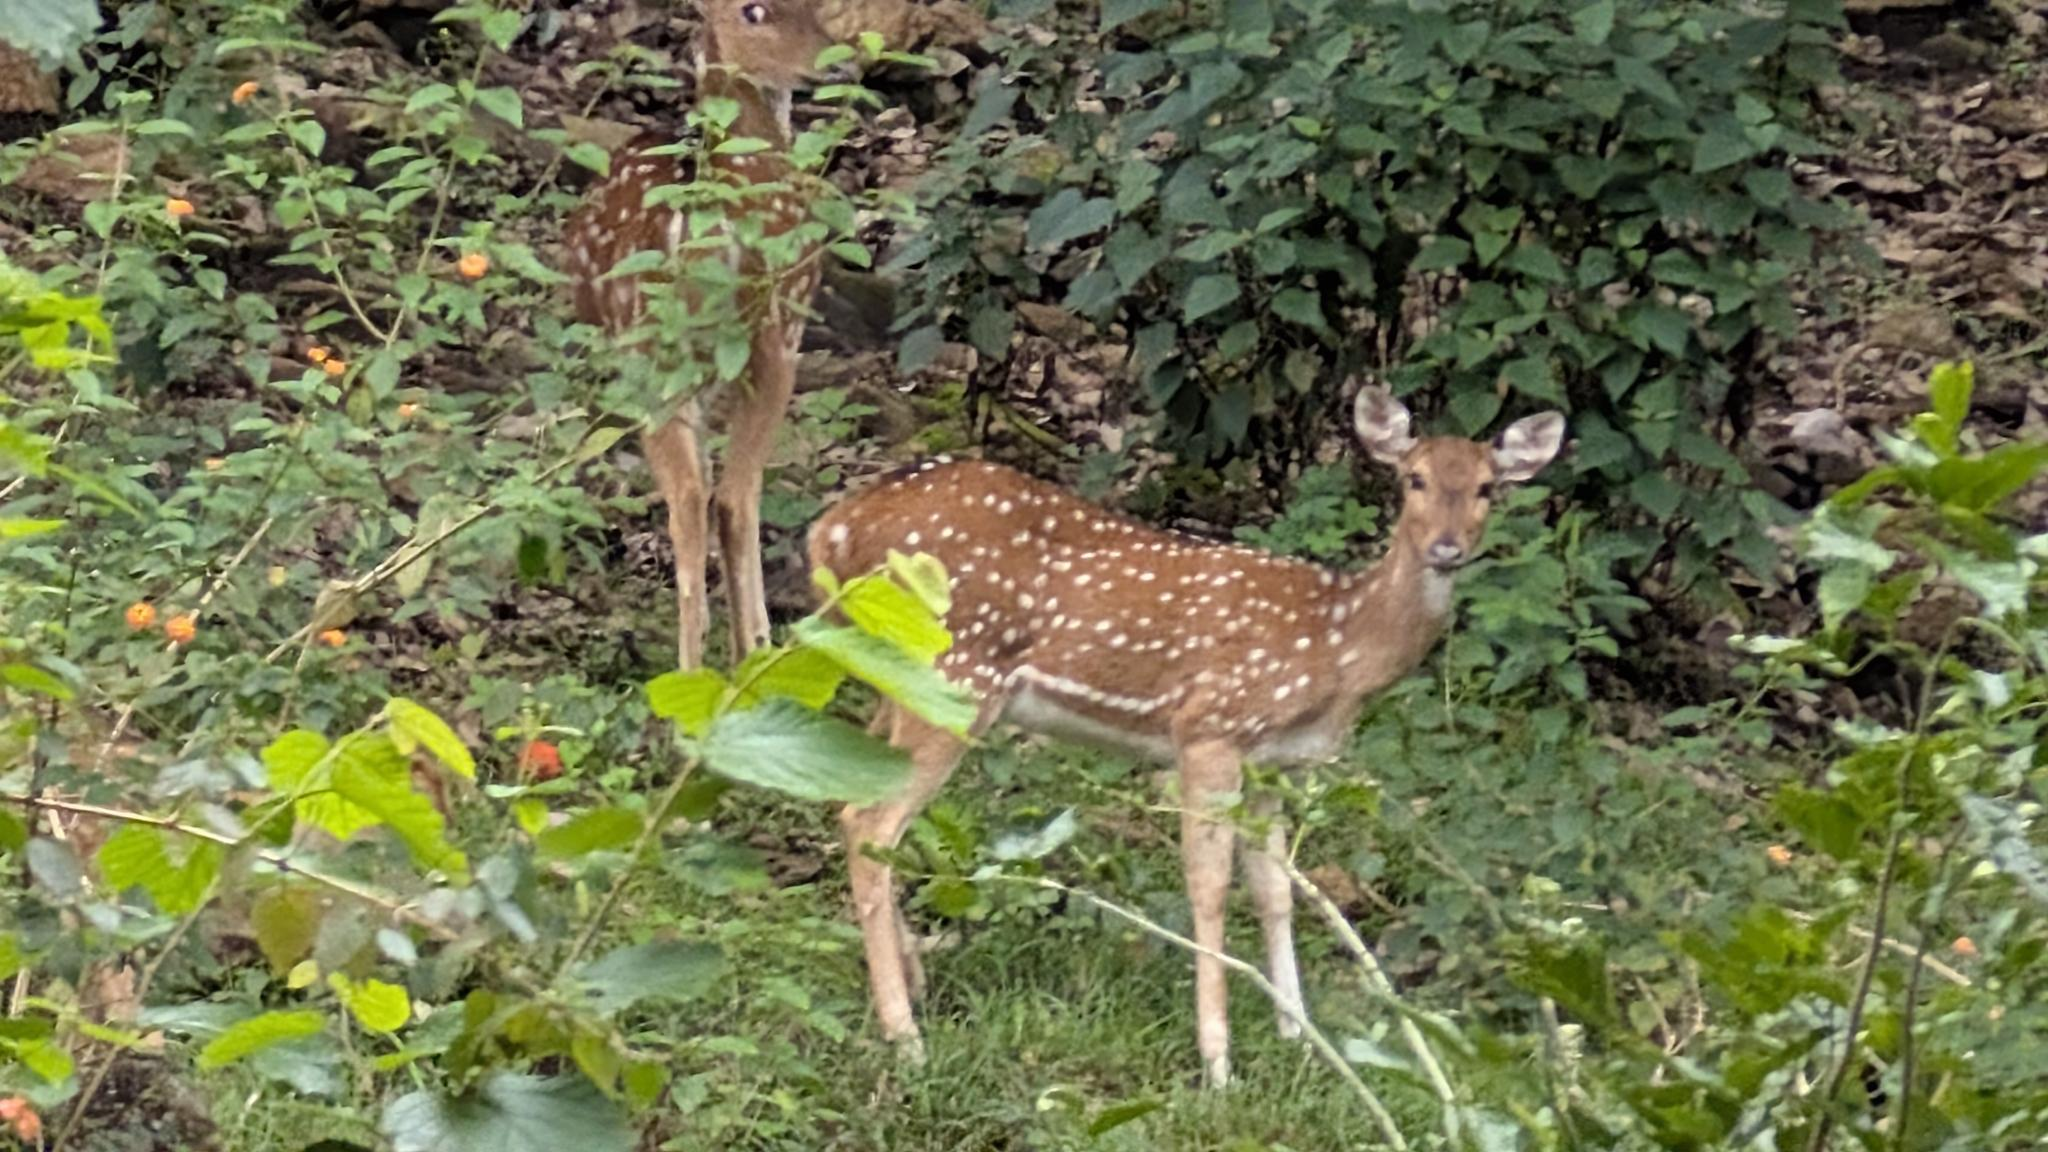Deer: (805, 385, 1564, 951)
